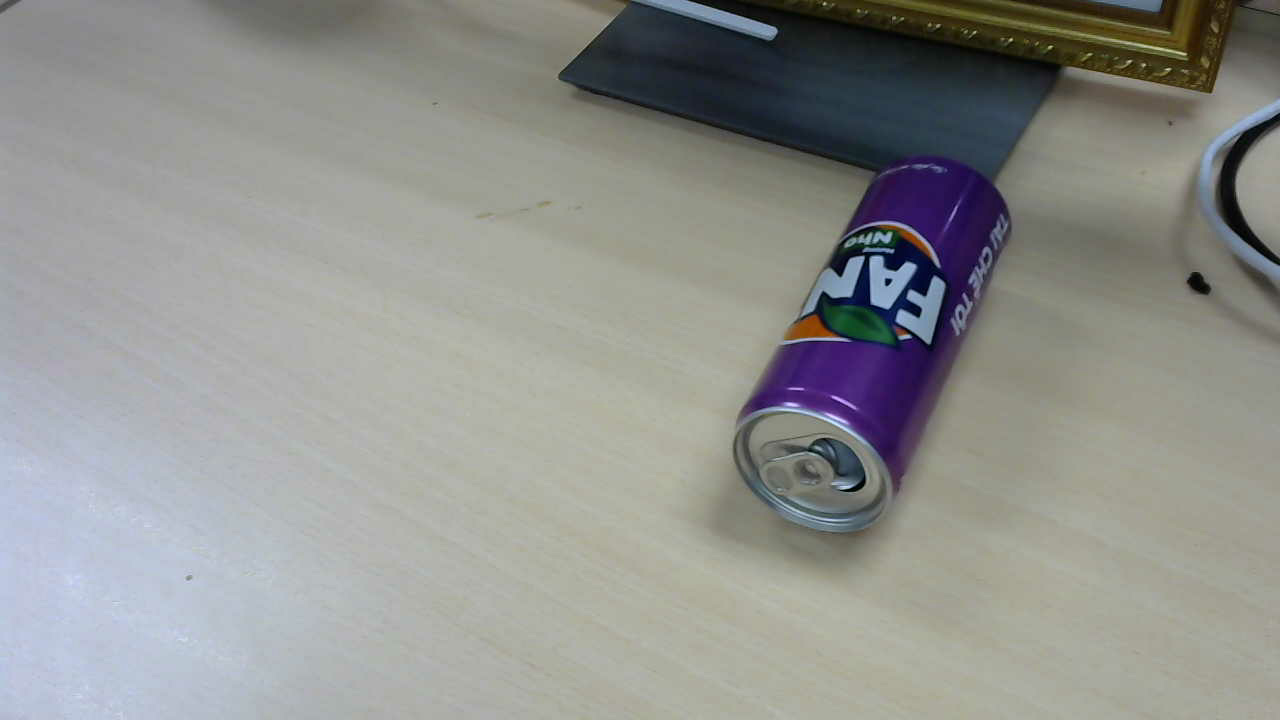Fanta: (737, 157, 1022, 539)
